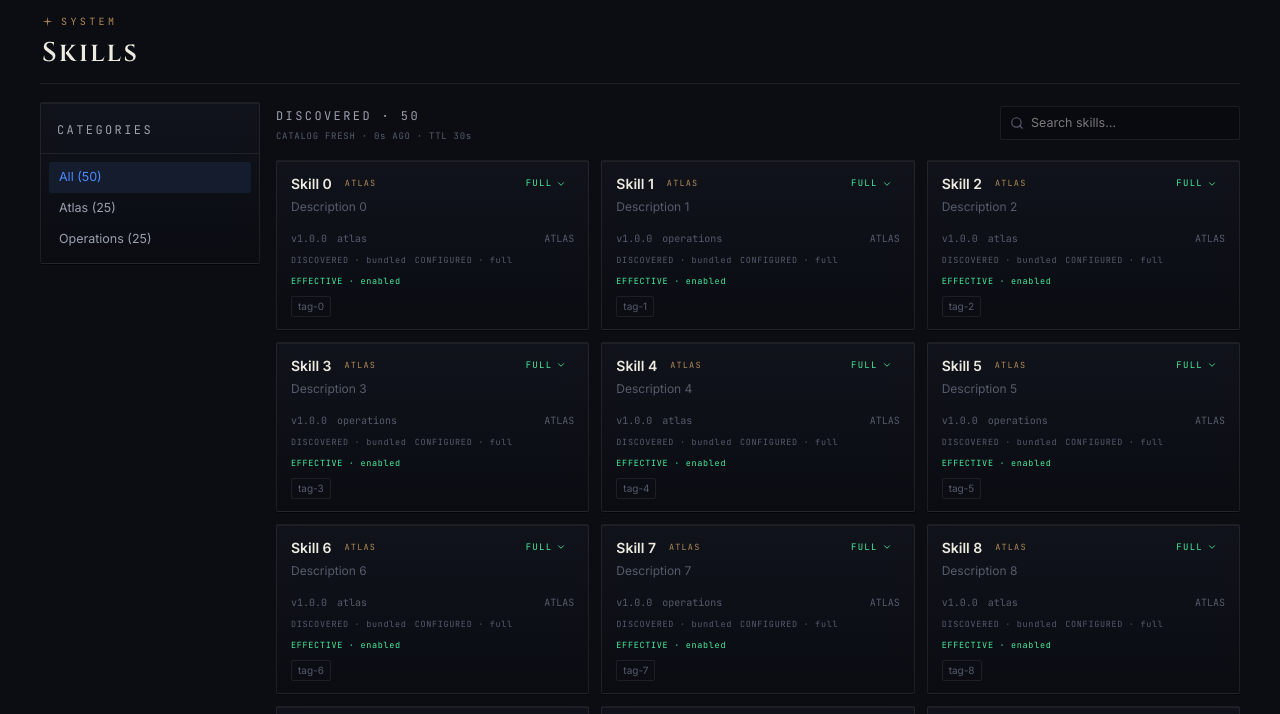
Skills control plane › shows source/effective state and a durable receipt after mutation
Expected: the text "Skill 0" is shown, [291, 173, 332, 194]
Expected: the text "DISCOVERED · bundled" below "Description 0" is shown, [291, 254, 407, 267]
Click the button titled "Loading tier: FULL" in the row of "Skill 0". click: (546, 184)
box: [518, 173, 574, 194]
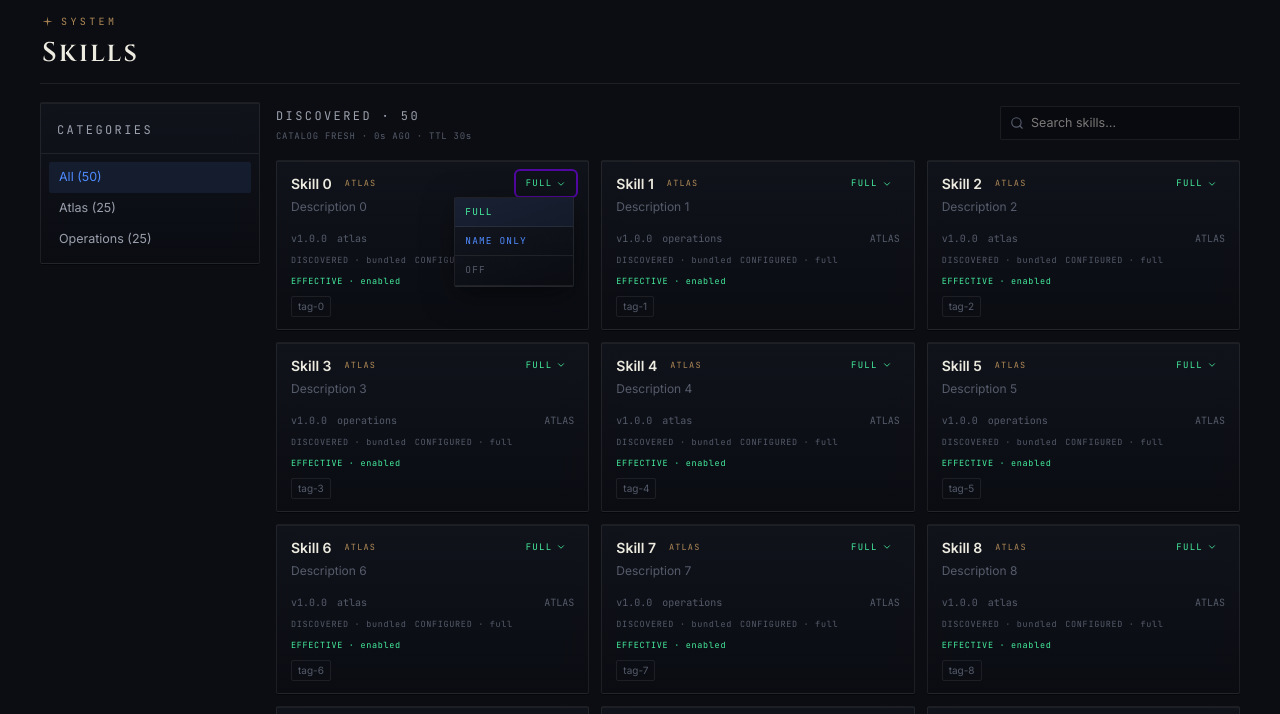
Click the button "NAME ONLY". click: (514, 242)
box: [455, 227, 573, 256]
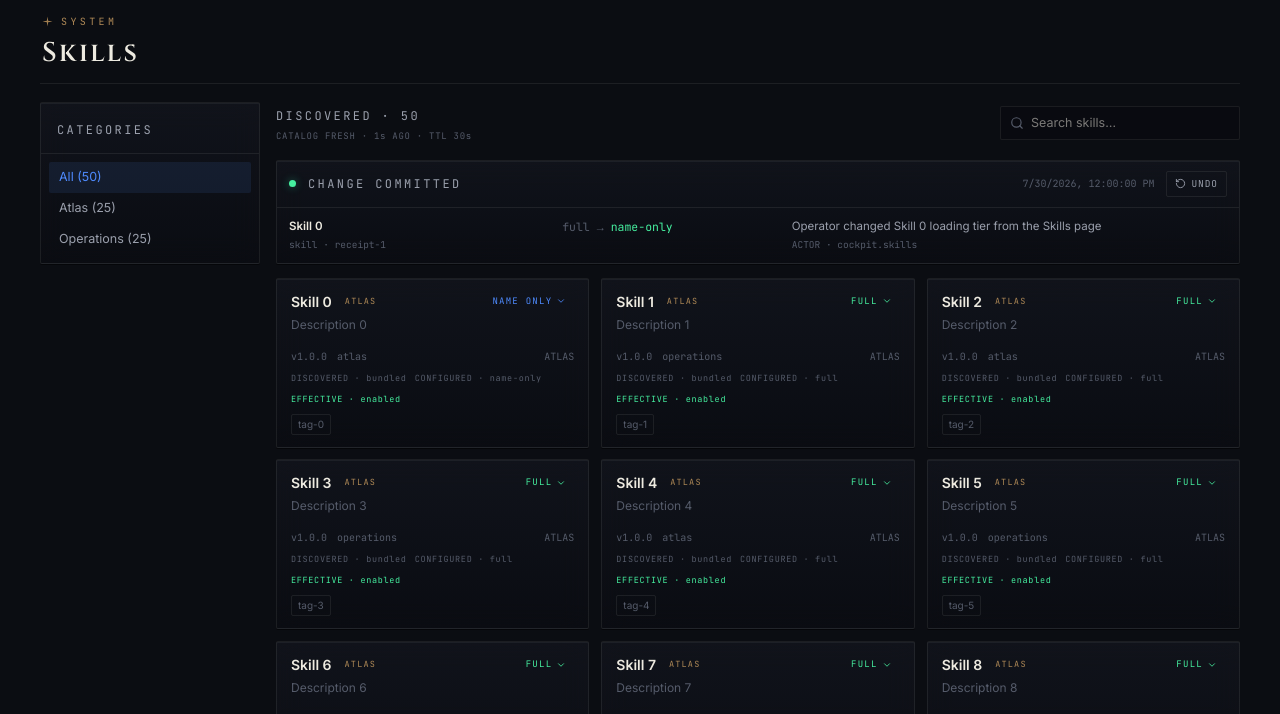
Expected: the text "CHANGE COMMITTED" is shown, [308, 175, 462, 193]
Expected: the text "skill · receipt-1" is shown, [289, 238, 386, 251]
Expected: the text "ACTOR · cockpit.skills" is shown, [792, 238, 917, 251]
